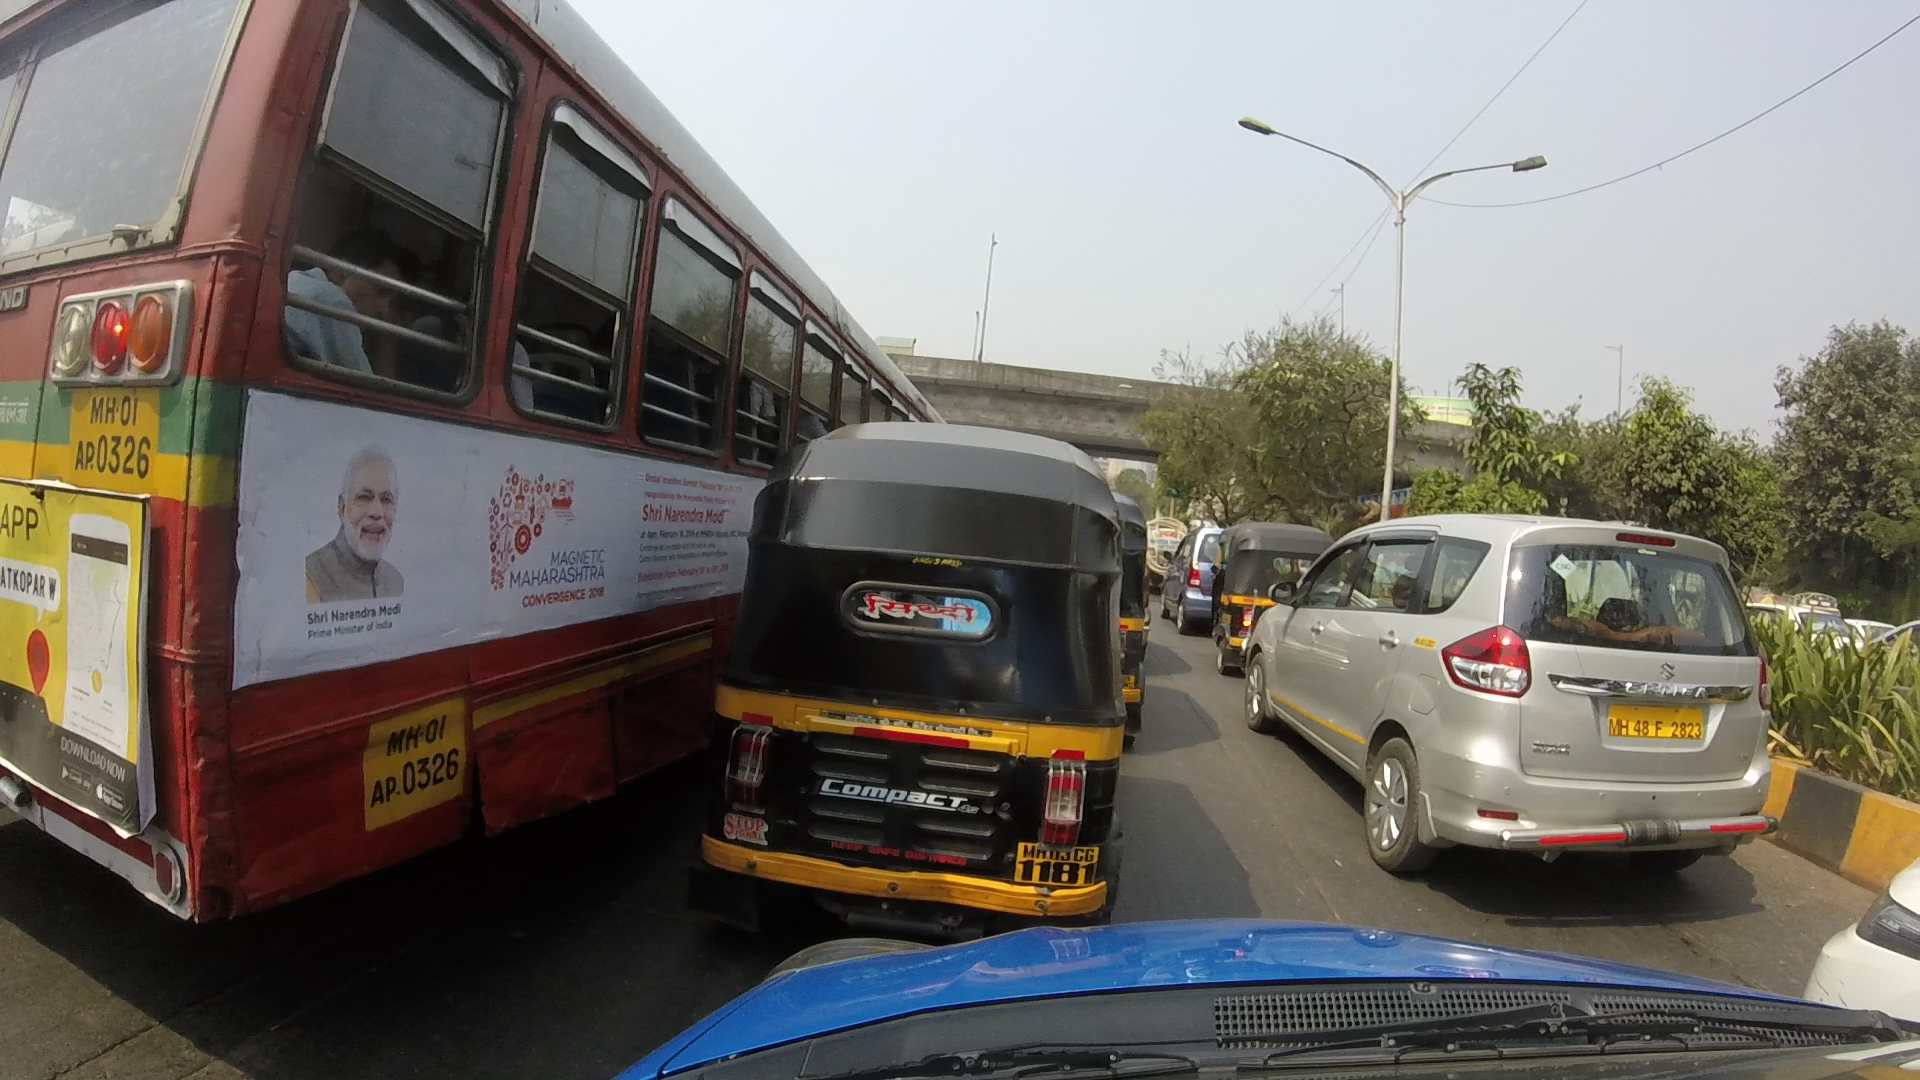bus: (1, 7, 930, 931)
car: (1247, 477, 1795, 881)
rickshaw: (702, 413, 1121, 913), (1089, 487, 1171, 748), (1215, 504, 1336, 675)
